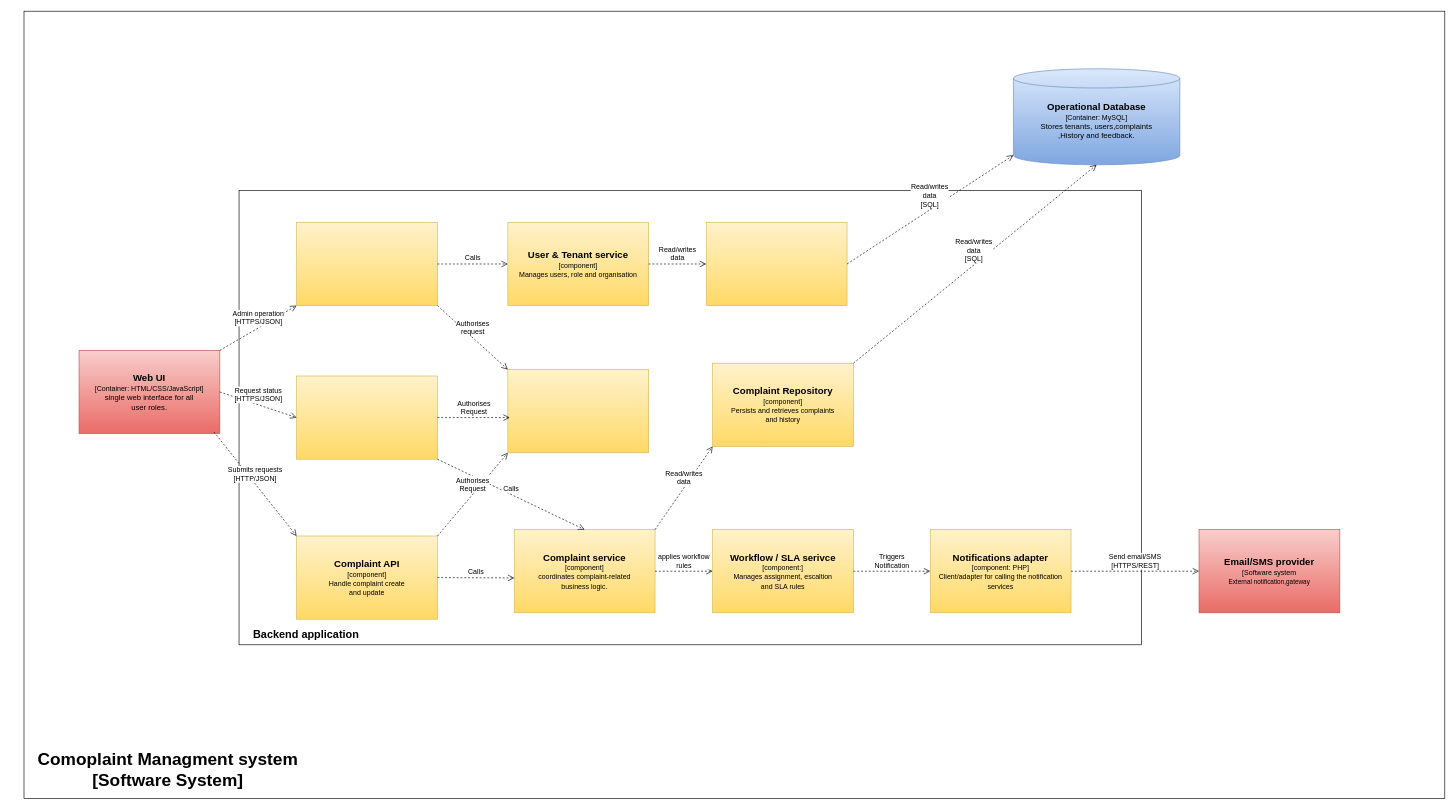
Some shapes in this 1456 by 810 pixel diagram are drawn without their labels. Each missing label, with the centre of its shape:
"Admin API [component] Handles tenant, users and role management" belongs at [366,264].
"Security component [component] Authentication, authorisation and tenant checks." belongs at [578,411].
"Status API [component] Handles viewing complaint status and history" belongs at [366,417].
"User Repository [component] Persists and retrieves user and roles" belongs at [776,264].
